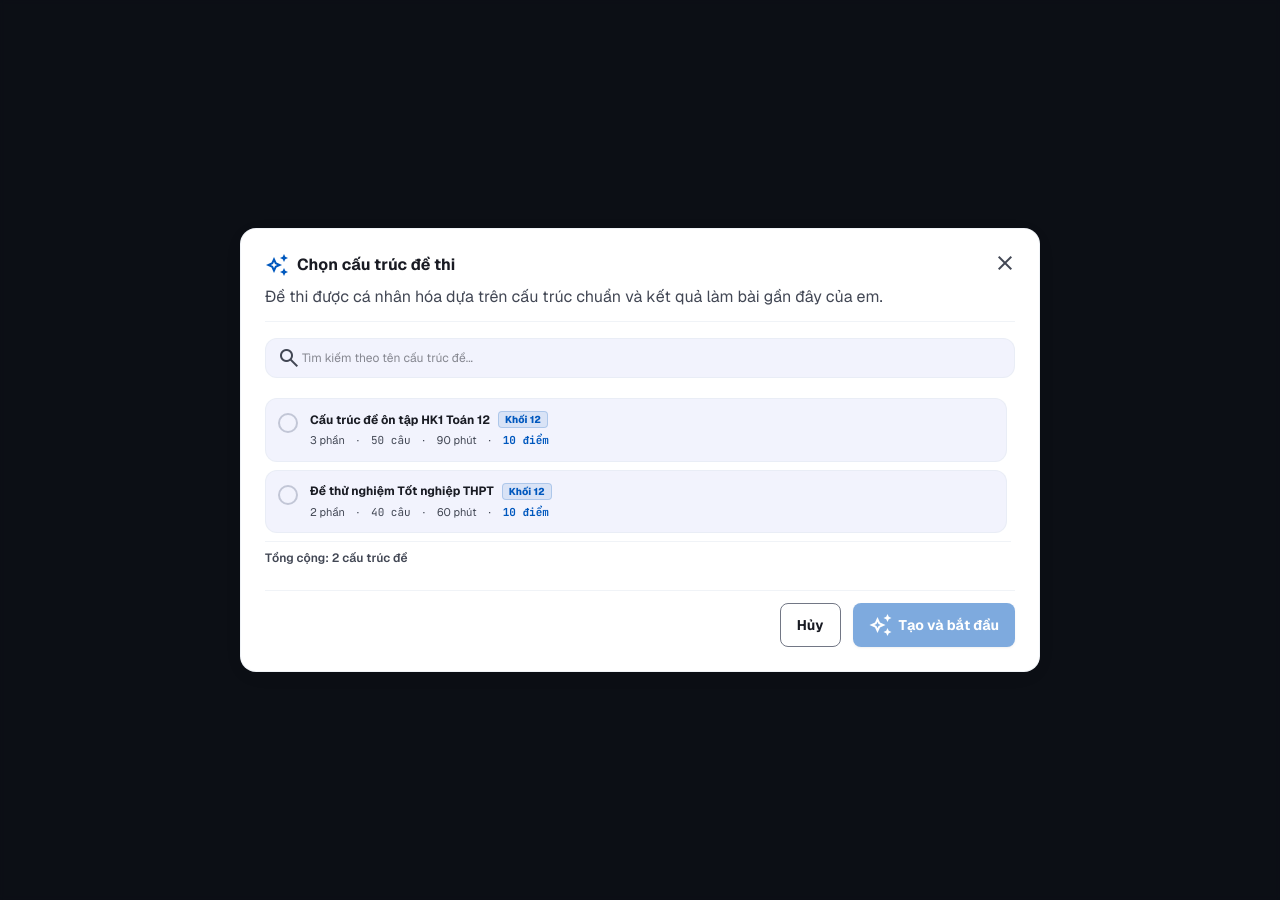
AdaptiveBlueprintExamDialog - Task 8 Scaled Discovery & Pagination › renders blueprint metadata and natural Vietnamese explanation without forbidden terms
The image size is (1280, 900).
Check: the text "Cấu trúc đề ôn tập HK1 Toán 12" is shown, box [310, 412, 490, 428]
// Select blueprint
Click the button "Cấu trúc đề ôn tập HK1 Toán 12".
click(400, 420)  # box [265, 398, 1007, 462]
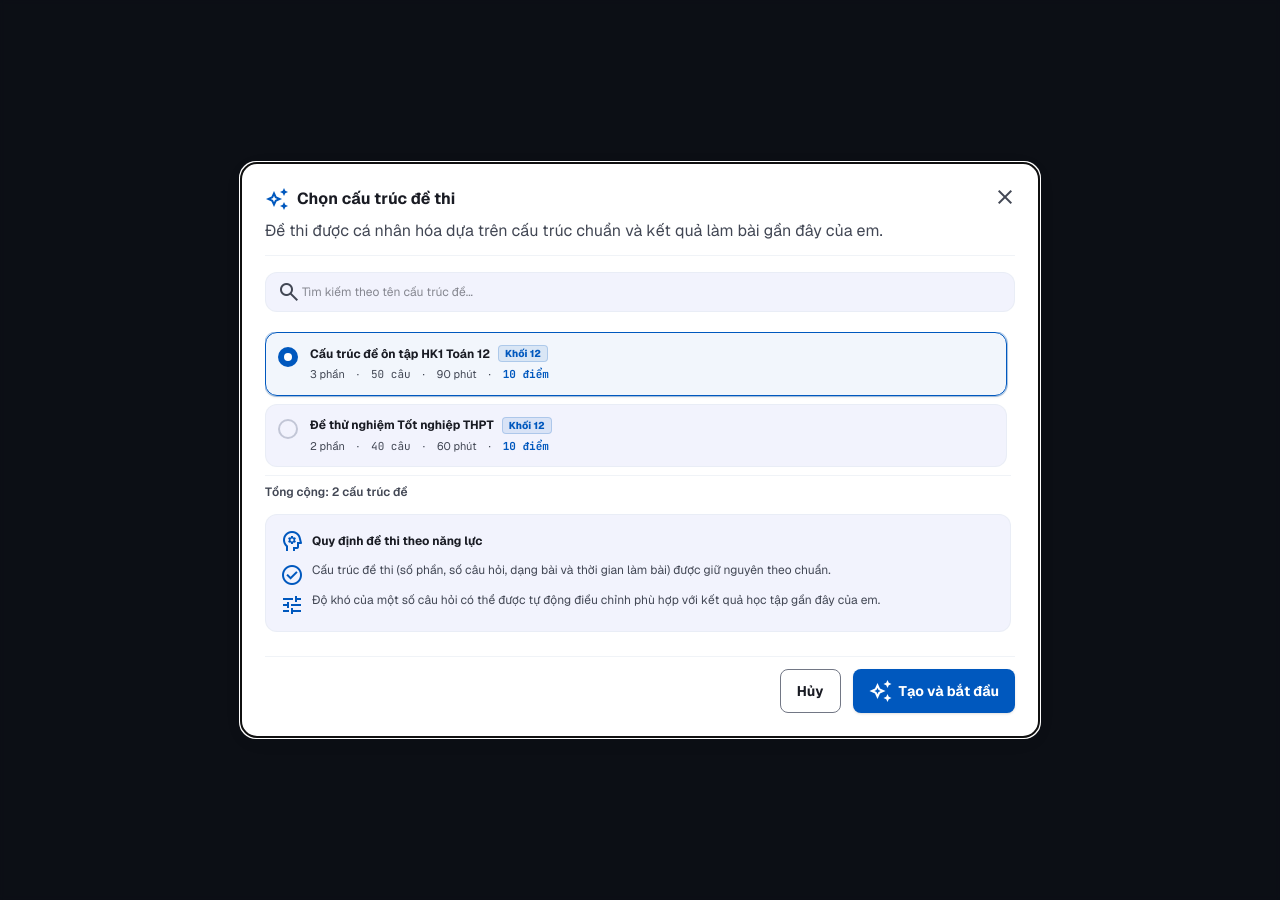
Check: the text "3 phần" is shown, box [310, 366, 345, 382]
Check: the text "kết quả học tập gần đây" is shown, box [312, 592, 880, 608]
